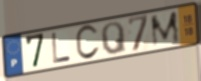7: (127, 13, 150, 53), (24, 32, 46, 71)
C: (74, 23, 101, 62)
L: (51, 31, 73, 65)
M: (149, 9, 182, 49)
Q: (99, 21, 128, 56)
